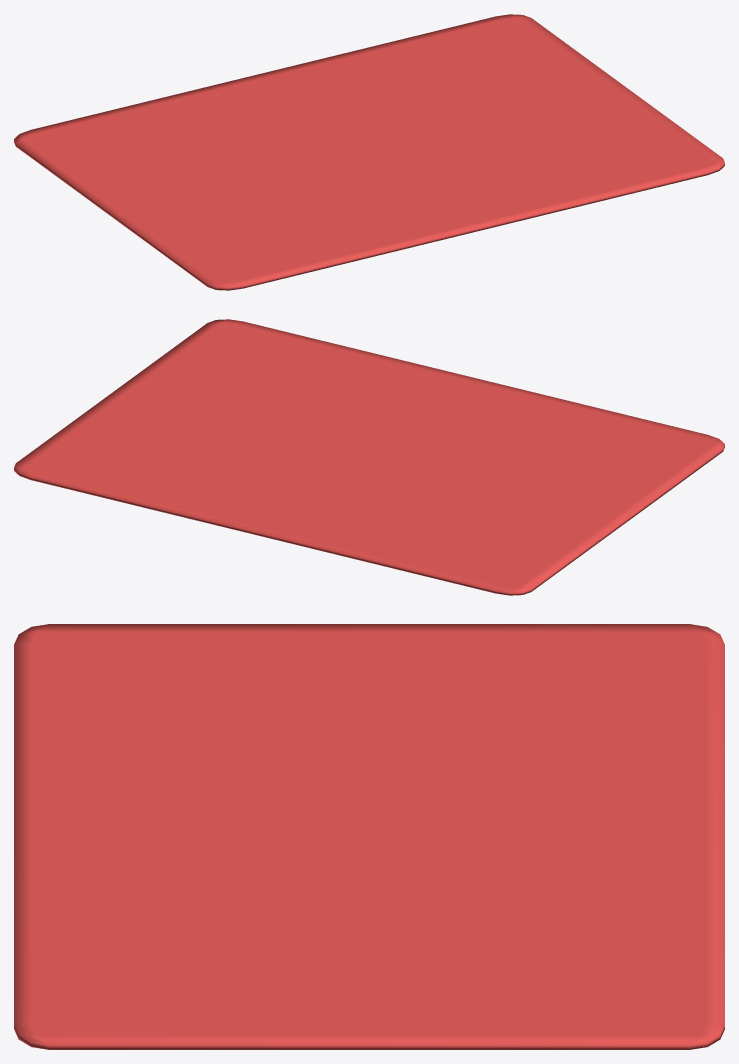
Rendered from Card.fbx.
3 views of the same model, one above another, from view 1: azimuth 30°, elevation 25°; view 2: azimuth 150°, elevation 25°; view 3: azimuth 270°, elevation 25° (orthographic). The views are drawn at different scales.
Parts seen in each view (by area): view 1: Cube; view 2: Cube; view 3: Cube.
Part boxes in pixels (x1,y1,x2,y2): Cube: [14, 14, 724, 290]; Cube: [14, 319, 724, 595]; Cube: [14, 624, 724, 1049].
Size of the model in its own units: 8.89 by 0.05 by 6.35.
